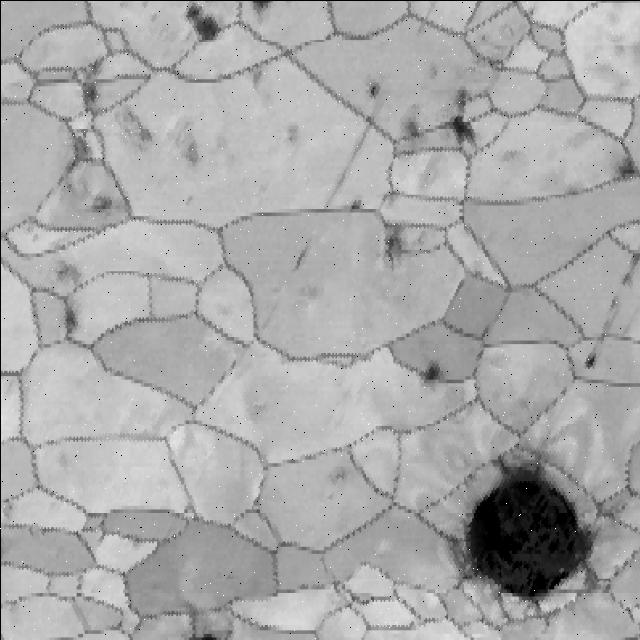good_void: (445, 449, 603, 600), (184, 0, 230, 55), (58, 130, 96, 196), (111, 109, 157, 156), (453, 79, 477, 160), (370, 222, 408, 263), (54, 294, 88, 335), (170, 118, 201, 162), (83, 192, 123, 221), (580, 331, 608, 369), (415, 360, 454, 387), (398, 103, 422, 145), (326, 461, 349, 500), (612, 154, 640, 186), (292, 237, 312, 271), (77, 80, 97, 113), (281, 120, 299, 142), (350, 200, 368, 221), (249, 61, 264, 86), (249, 0, 273, 14), (370, 79, 378, 101)
